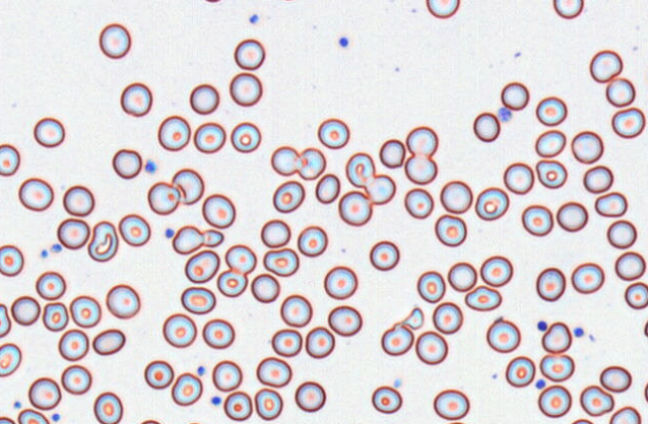PLT: (498, 106, 514, 122), (143, 158, 157, 173), (337, 36, 350, 49), (392, 374, 404, 388), (572, 326, 584, 339), (535, 376, 547, 389), (48, 243, 62, 254), (537, 318, 548, 332), (11, 399, 23, 410), (247, 13, 259, 24), (210, 396, 222, 406), (50, 412, 60, 422), (196, 365, 206, 375), (39, 248, 47, 259)
RBC: (162, 312, 197, 348), (105, 283, 140, 319), (486, 316, 520, 353), (474, 186, 509, 221), (338, 190, 372, 226), (171, 167, 204, 204), (98, 22, 131, 59), (184, 249, 219, 283), (201, 193, 235, 228), (18, 177, 53, 211), (157, 115, 190, 151), (323, 265, 357, 299), (589, 49, 623, 83), (433, 388, 469, 420), (120, 81, 152, 117), (147, 181, 180, 215), (537, 384, 571, 417), (28, 376, 61, 410), (415, 330, 448, 364), (570, 130, 603, 164), (229, 72, 262, 106), (579, 384, 614, 416), (327, 304, 362, 336), (256, 356, 292, 387), (272, 180, 305, 213), (439, 180, 472, 213), (279, 294, 312, 327), (479, 255, 513, 287), (56, 217, 90, 249), (611, 106, 645, 138), (570, 262, 604, 294), (345, 151, 375, 187), (262, 247, 299, 276), (405, 125, 438, 157), (434, 214, 466, 247), (69, 295, 101, 328), (118, 213, 150, 246), (193, 121, 226, 153), (380, 324, 414, 355), (171, 372, 202, 406), (535, 266, 565, 301), (294, 380, 326, 412), (521, 204, 553, 236), (317, 117, 349, 149), (62, 184, 94, 216), (233, 38, 265, 70), (432, 301, 463, 334), (58, 328, 89, 361), (539, 353, 574, 382), (224, 243, 256, 274), (211, 359, 242, 391), (503, 162, 534, 194), (202, 318, 234, 349), (614, 250, 646, 281), (556, 201, 588, 232), (33, 116, 65, 147), (404, 154, 437, 184), (180, 286, 215, 314), (111, 148, 142, 179), (230, 121, 261, 152), (403, 187, 433, 219), (505, 355, 535, 387), (541, 321, 571, 353), (60, 364, 92, 394), (93, 391, 123, 423), (535, 96, 567, 126), (297, 147, 326, 180), (254, 387, 283, 420), (416, 270, 445, 303), (365, 173, 395, 204), (270, 145, 300, 176), (260, 218, 291, 248), (297, 225, 327, 256), (369, 240, 399, 271), (189, 83, 219, 114), (606, 219, 637, 249), (35, 270, 66, 300), (305, 326, 334, 358), (535, 159, 567, 188), (250, 273, 280, 303), (447, 261, 477, 291), (144, 359, 174, 389), (10, 295, 40, 325), (605, 77, 635, 107), (216, 268, 247, 297), (271, 328, 302, 357), (223, 390, 252, 421), (371, 385, 402, 414), (534, 129, 566, 157), (92, 328, 125, 355), (599, 365, 632, 392), (583, 164, 613, 193), (472, 111, 500, 142), (594, 191, 627, 217), (500, 81, 529, 110), (378, 138, 405, 168), (314, 173, 340, 203), (42, 301, 68, 331), (0, 244, 24, 276), (0, 342, 21, 376), (624, 281, 648, 309), (0, 143, 20, 176), (425, 0, 459, 18), (609, 405, 641, 424), (553, 0, 584, 19), (17, 408, 49, 423), (0, 302, 11, 337), (138, 418, 163, 424), (570, 418, 594, 423), (643, 315, 648, 338), (0, 416, 15, 423), (644, 378, 648, 403), (644, 65, 648, 89), (183, 420, 205, 424), (441, 421, 468, 424), (202, 0, 223, 3), (275, 0, 300, 2)
Schistocyte: (89, 220, 119, 264), (464, 286, 503, 310), (172, 226, 203, 254), (402, 306, 424, 329), (198, 228, 224, 247)
